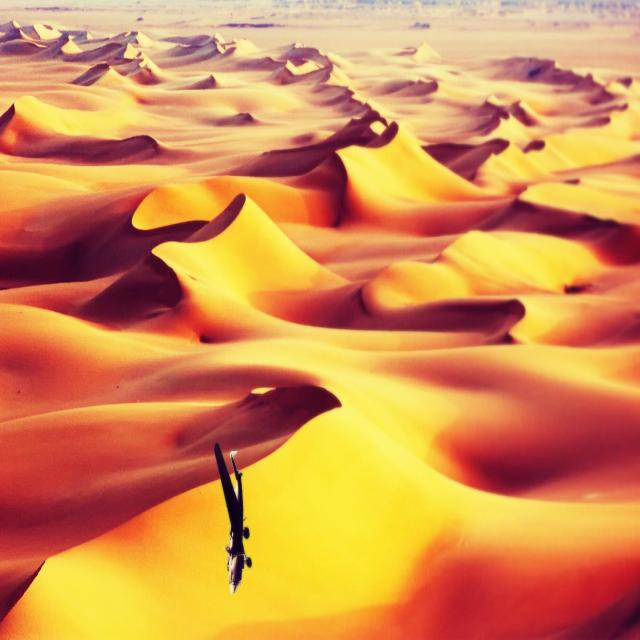airplane: (213, 441, 252, 594)
